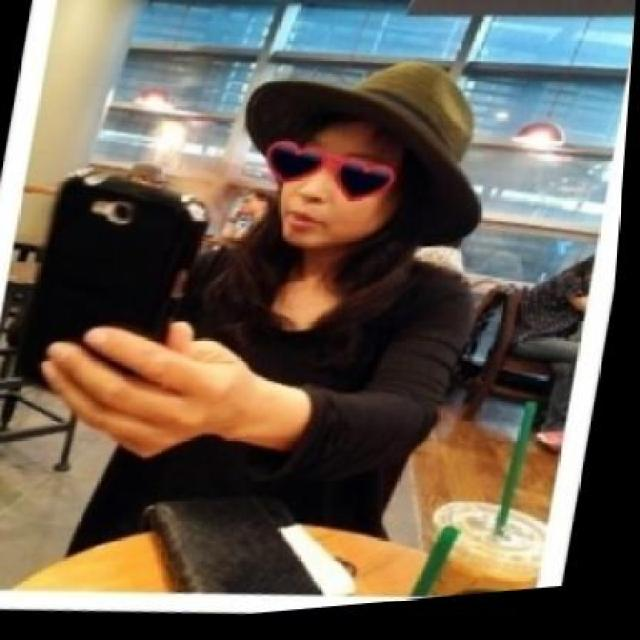hat: (245, 69, 488, 254)
